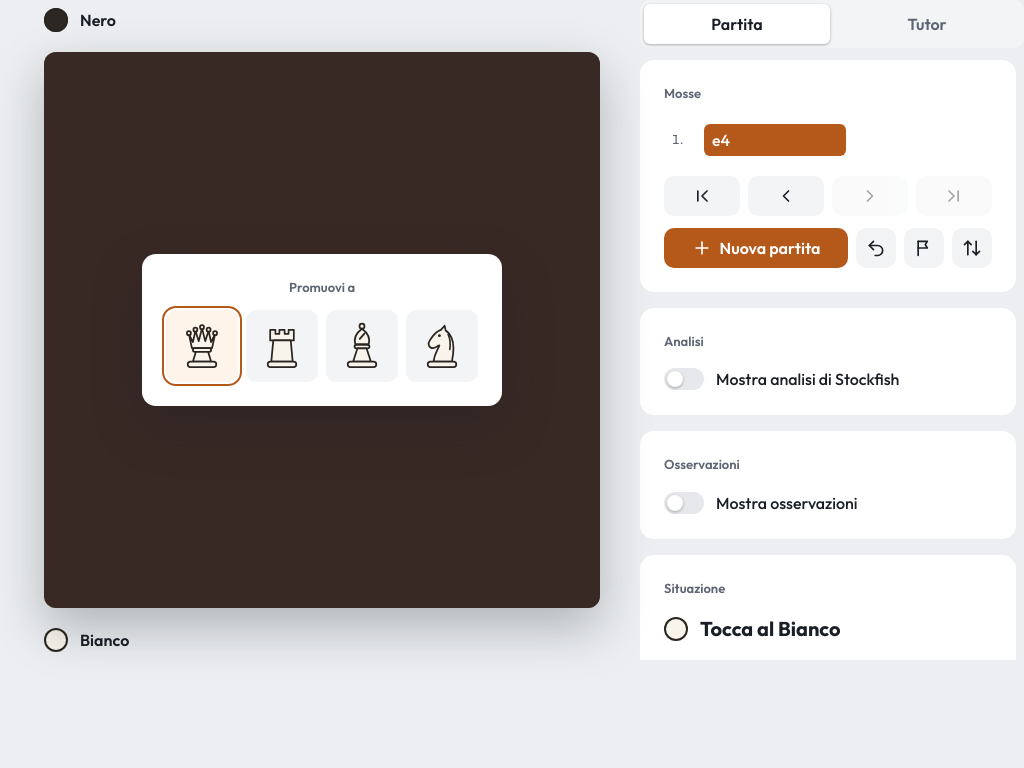
PlayPage › per la promozione chiede il pezzo e invia la mossa completa
Step 1. Click the button named "Cavallo" → {"x": 442, "y": 346}, box [406,310,478,382]
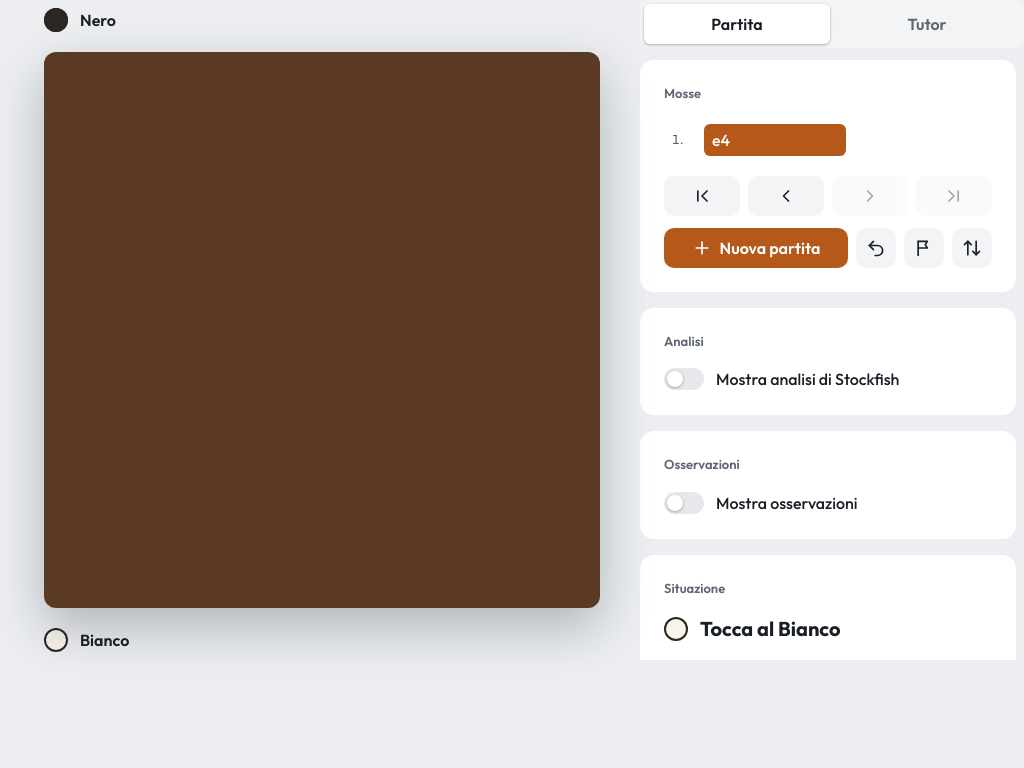
Expected: the dialog is gone
